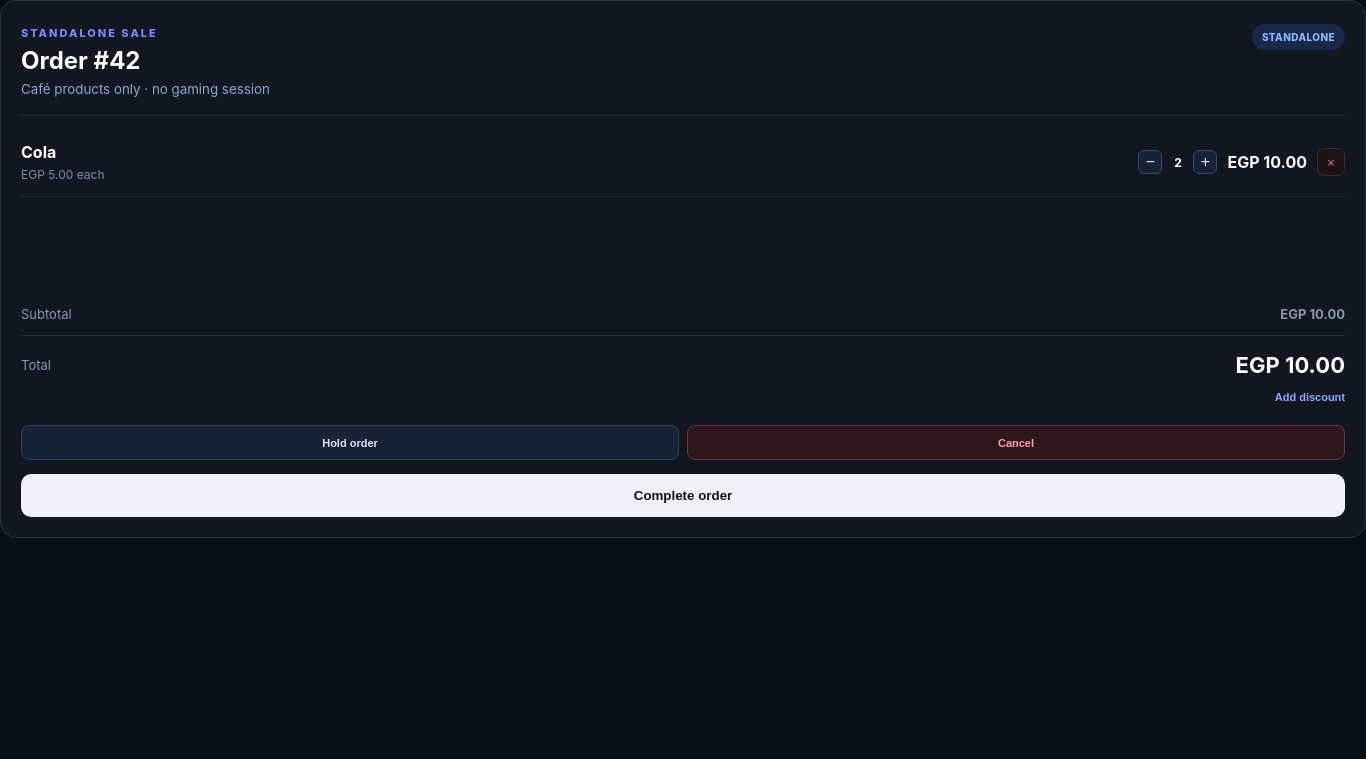
Test: OrderCart › shows the discount error returned by the server
What coordinates should you click on to do the following:
click the button "Add discount"
I would click on:
 (1310, 397)
Its box is [1275, 383, 1345, 411].
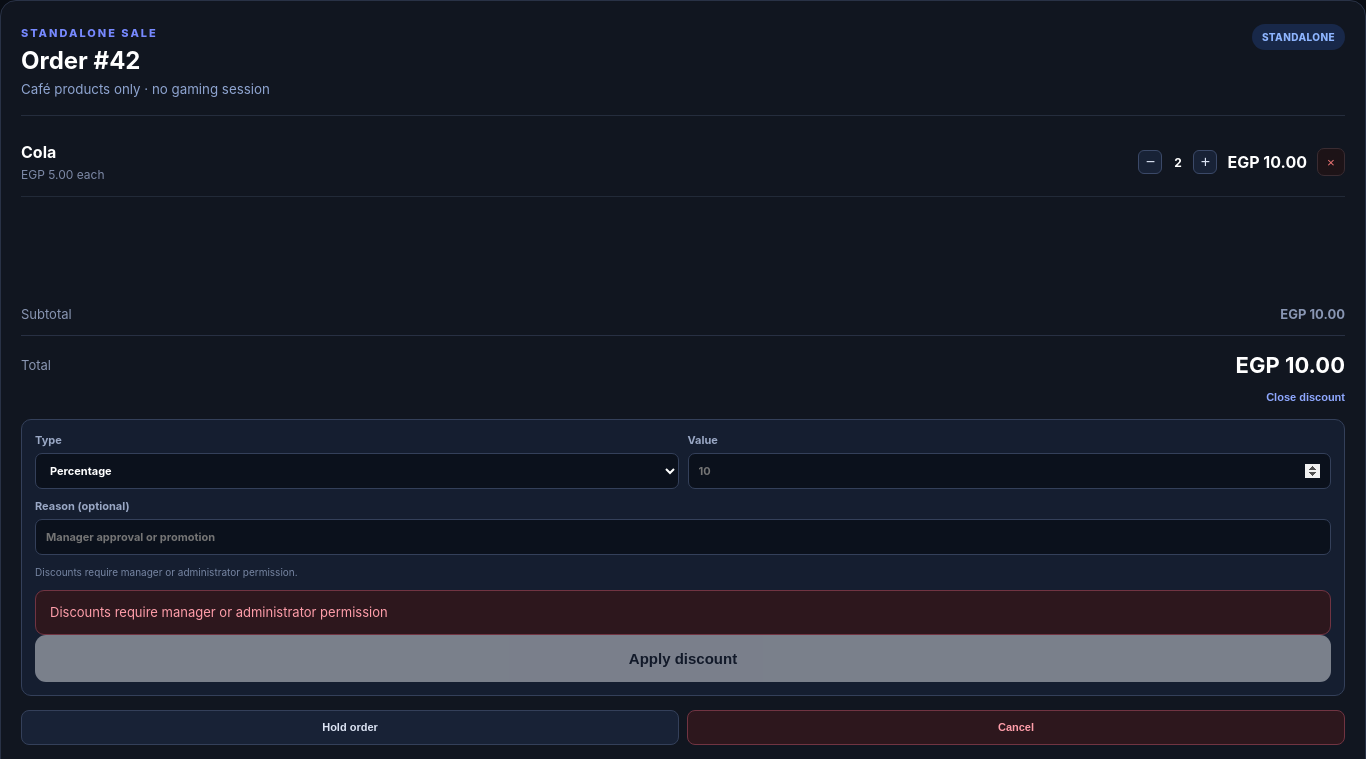
expect the message reads "Discounts require manager or administrator permission": met, box [50, 604, 388, 620]
